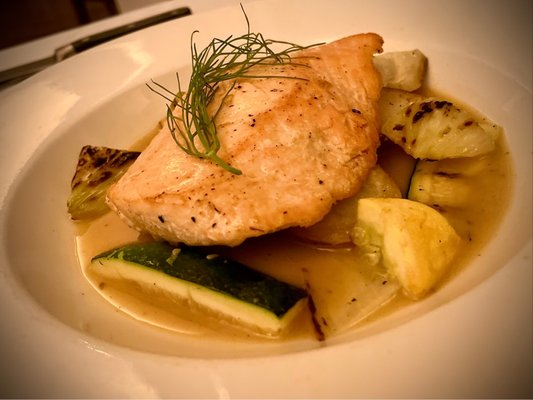sushi: (28, 19, 529, 354)
